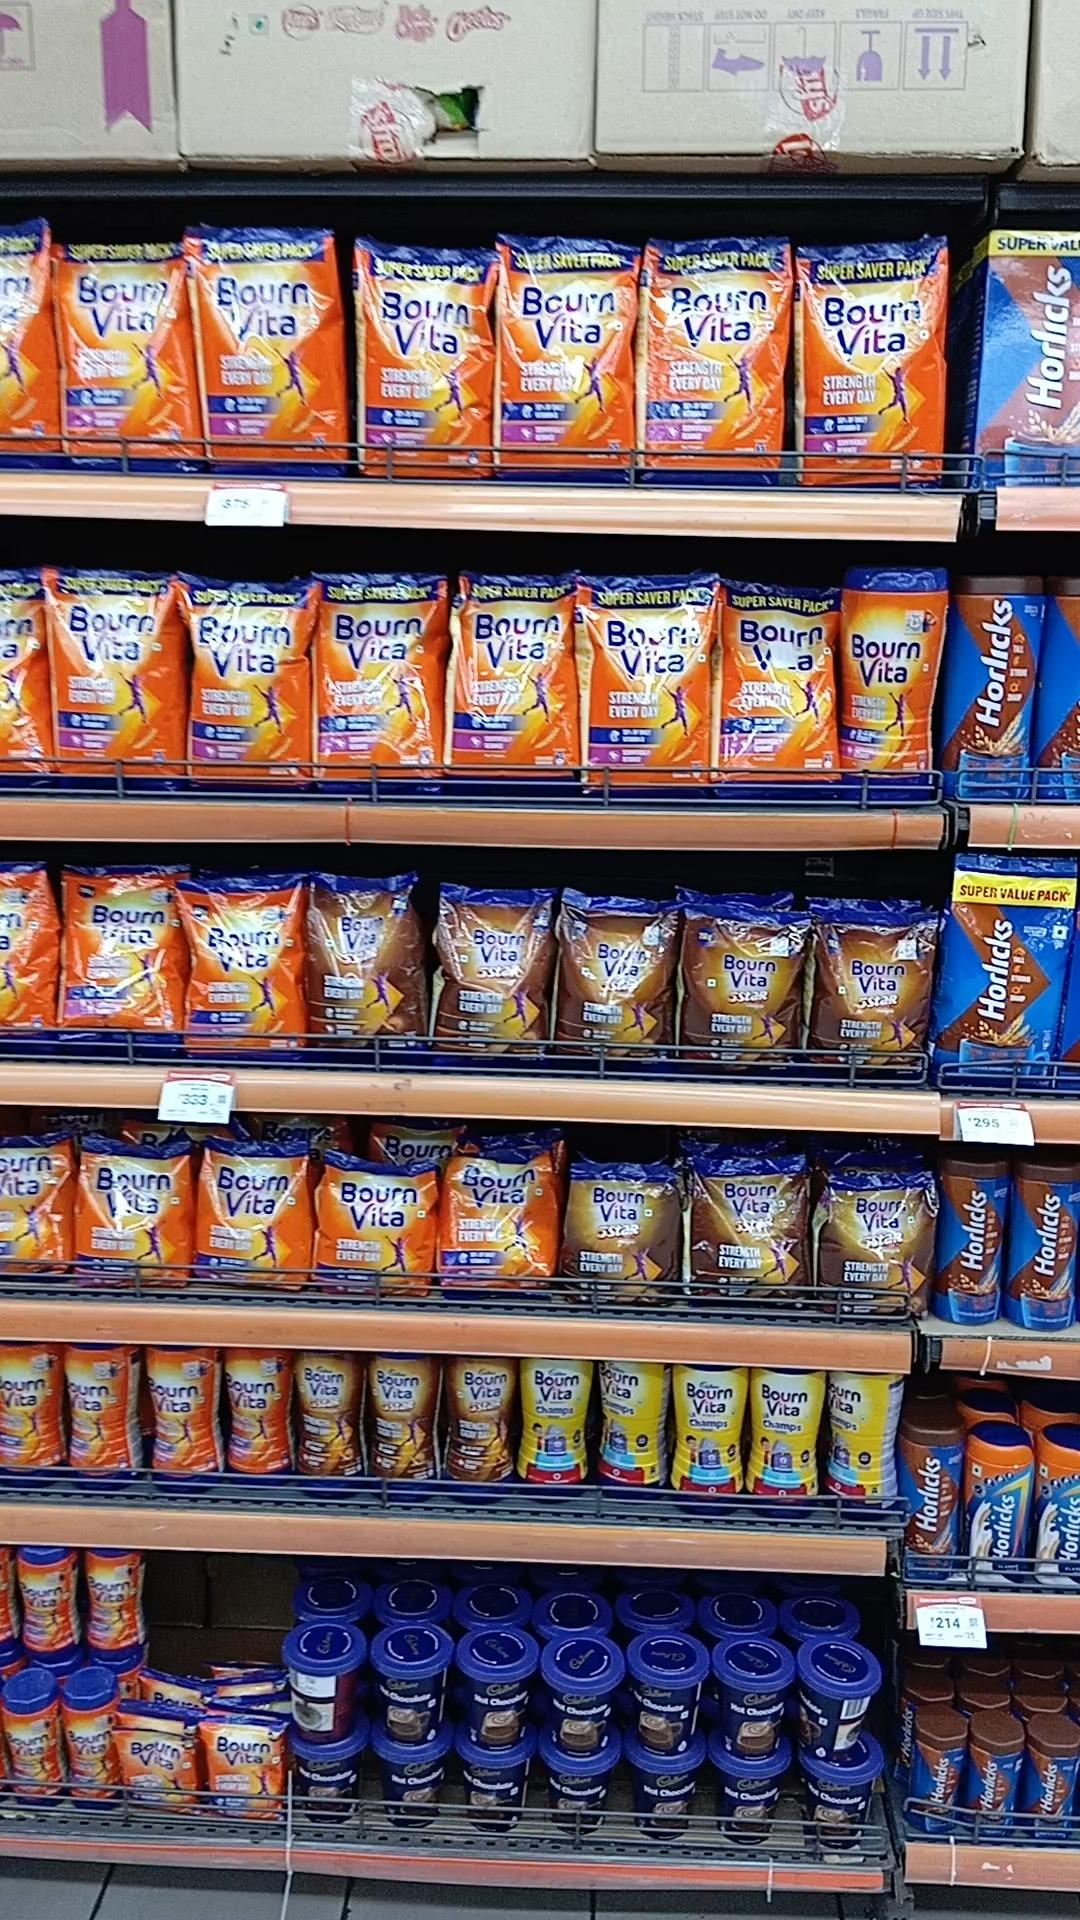BOURN_VITA_1_KG_JAR: (844, 572, 942, 796)
BOURN_VITA_1_KG_POUCH: (202, 229, 355, 477), (795, 240, 944, 480), (644, 236, 782, 485), (495, 236, 636, 480), (53, 240, 199, 465), (356, 237, 491, 479), (42, 564, 183, 786), (447, 571, 579, 802), (584, 575, 709, 802), (316, 572, 443, 795), (187, 572, 315, 790), (713, 578, 837, 790)
BOURN_VITA_200_G_JAR: (4, 1667, 65, 1803), (13, 1544, 83, 1660), (63, 1668, 119, 1807), (86, 1551, 152, 1654)
BOURN_VITA_500_G_JAR: (71, 1346, 148, 1494), (150, 1352, 225, 1491), (0, 1341, 69, 1493), (229, 1348, 293, 1494)
BOURN_VITA_500_G_POUCH: (73, 1133, 196, 1284), (316, 1153, 435, 1292), (199, 1130, 305, 1286), (444, 1146, 556, 1290)
BOURN_VITA_750_G_POUCH: (185, 869, 307, 1059), (57, 858, 182, 1040)
BOURN_VITA_CHAMPS_500_G_JAR: (671, 1364, 749, 1516), (753, 1366, 822, 1520), (825, 1367, 894, 1519), (596, 1361, 666, 1497), (526, 1360, 592, 1495)
BOURN_VITA_FIVE_STAR_MAGIC_500_G_JAR: (448, 1354, 522, 1507), (297, 1348, 368, 1502), (371, 1352, 442, 1503)
BOURN_VITA_FIVE_STAR_MAGIC_500_G_POUCH: (690, 1160, 811, 1304), (818, 1164, 932, 1316), (567, 1164, 683, 1308)
BOURN_VITA_FIVE_STAR_MAGIC_750_G_POUCH: (679, 906, 808, 1077), (313, 866, 429, 1051), (556, 890, 674, 1067), (438, 874, 551, 1054), (815, 907, 934, 1076)
HORLICK_CHOCOLATE_1_KG_JAR: (945, 568, 1038, 790)
HORLICK_CHOCOLATE_1_KG_PACK: (944, 872, 1067, 1098)
HORLICK_CHOCOLATE_200_G_JAR: (967, 1712, 1025, 1844), (1026, 1712, 1080, 1838), (911, 1705, 963, 1833)
HORLICK_CHOCOLATE_500_G_JAR: (897, 1402, 964, 1578), (1014, 1158, 1080, 1333), (938, 1158, 1004, 1328)
HORLICK_CLASSIC_MALT_500_G_JAR: (971, 1424, 1033, 1586), (1036, 1422, 1080, 1596)
